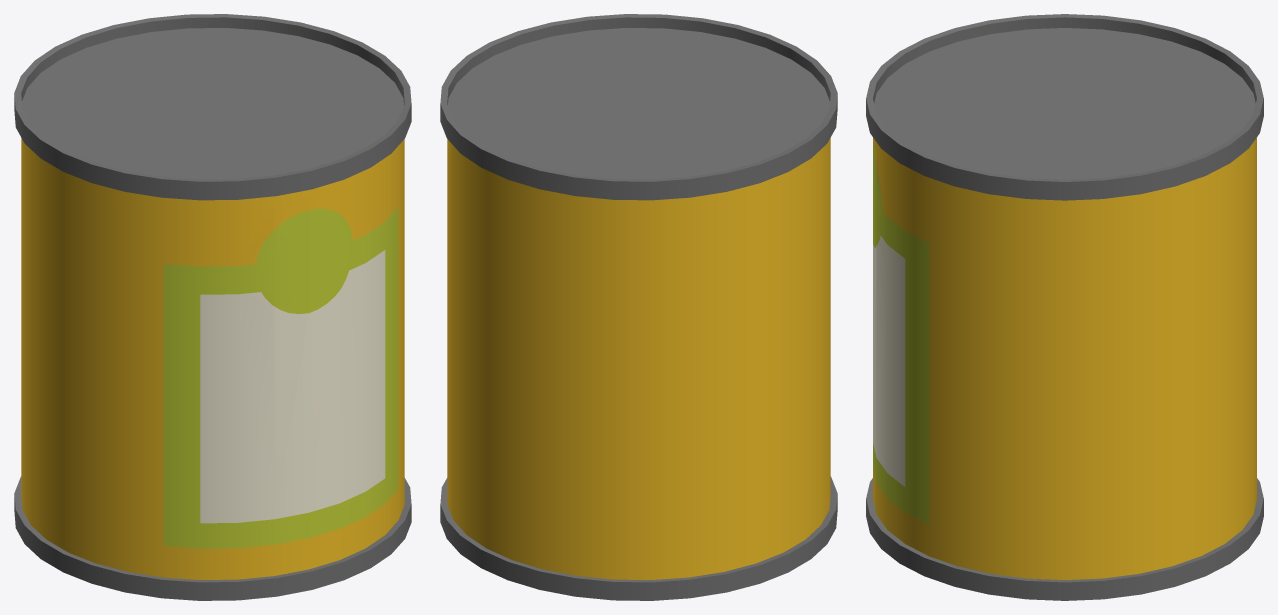
File: canned_food.gltf
The picture shows the model from 3 angles, left to right: view 1: azimuth 30°, elevation 25°; view 2: azimuth 150°, elevation 25°; view 3: azimuth 270°, elevation 25°; orthographic projection.
Visible parts, largest first — view 1: Cylinder.423; view 2: Cylinder.423; view 3: Cylinder.423.
Part boxes in pixels (box(x1,y1,x2,y2)): Cylinder.423: box(14, 14, 411, 600); Cylinder.423: box(440, 14, 837, 600); Cylinder.423: box(866, 14, 1263, 600).
Size of the model in its own units: 1.66 by 1.93 by 1.66.
1 material, 1 textured.
